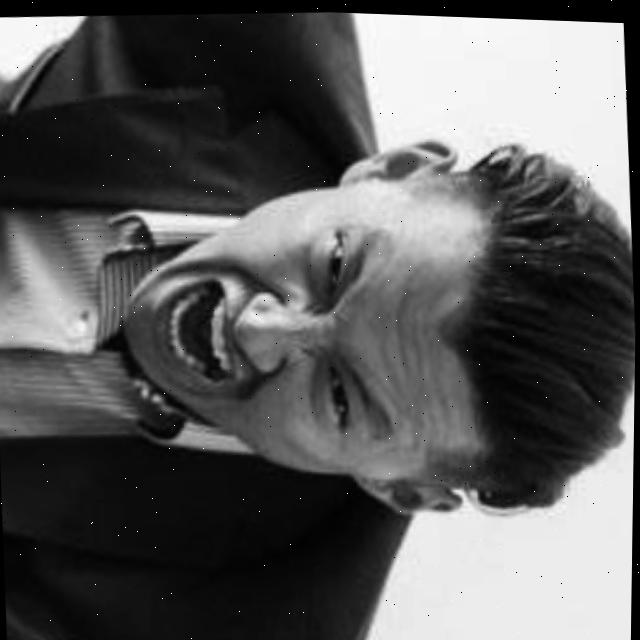angry: (45, 97, 637, 575)
